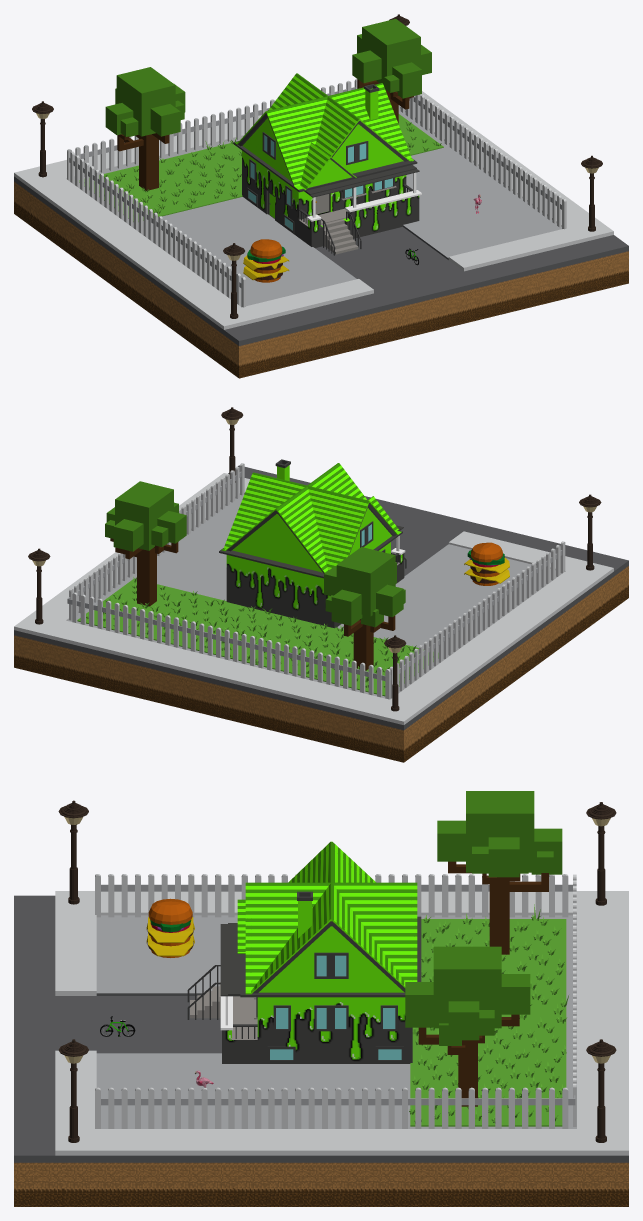
3 renders of one model, top to bottom at view 1: azimuth 30°, elevation 25°; view 2: azimuth 150°, elevation 25°; view 3: azimuth 270°, elevation 25°, orthographic. The views are drawn at different scales.
Parts seen in each view (by area): view 1: Cube.004, Cube.754, OBJRANDOM_HAMBURGER; view 2: Cube.004, Cube.754, OBJRANDOM_HAMBURGER; view 3: Cube.004, Cube.754, OBJRANDOM_HAMBURGER.
Boxes of the visible parts, x1,y1,x2,y2 form: Cube.004: (14, 14, 628, 378); Cube.754: (233, 73, 421, 255); OBJRANDOM_HAMBURGER: (243, 239, 289, 282); Cube.004: (14, 407, 628, 762); Cube.754: (219, 459, 406, 628); OBJRANDOM_HAMBURGER: (464, 542, 509, 585); Cube.004: (14, 791, 628, 1206); Cube.754: (187, 841, 421, 1063); OBJRANDOM_HAMBURGER: (146, 898, 194, 957).
Size of the model in its own units: 4000 by 1577 by 4000.
Materials: 37 (4 with a texture image).
